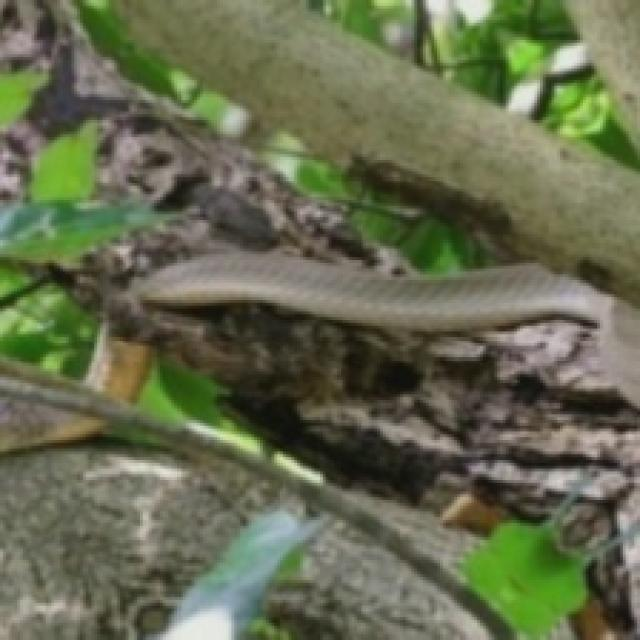king cobra: (139, 251, 640, 408), (88, 336, 151, 400)
